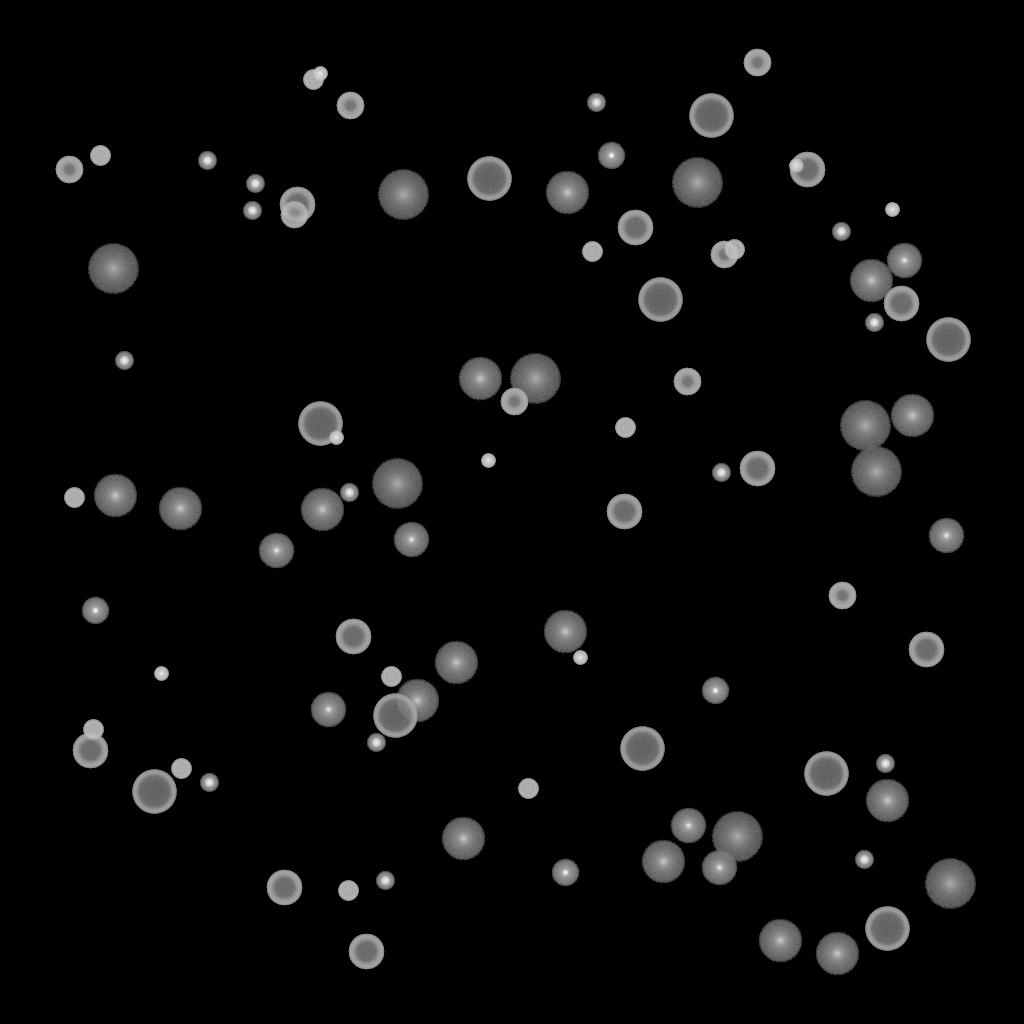depth:-10: (81, 597, 109, 625), (551, 859, 579, 887), (597, 142, 625, 170), (701, 677, 729, 705)
depth:-20: (876, 755, 894, 773), (340, 484, 358, 502), (115, 352, 133, 370), (855, 851, 873, 869), (712, 464, 730, 482), (200, 774, 218, 792), (243, 202, 261, 220), (587, 94, 605, 112), (246, 175, 264, 193), (865, 314, 883, 332), (832, 223, 850, 241), (367, 734, 385, 752), (198, 152, 216, 170), (376, 872, 394, 890)
depth:-30: (789, 159, 803, 173), (313, 67, 327, 81), (573, 651, 587, 665), (885, 203, 899, 217), (329, 431, 343, 445), (481, 454, 495, 468), (154, 667, 168, 681)
depth:-40: (381, 667, 401, 687), (83, 720, 103, 740), (338, 881, 358, 901), (615, 418, 635, 438), (64, 488, 84, 508), (724, 240, 744, 260), (518, 779, 538, 799), (171, 759, 191, 779), (582, 242, 602, 262), (90, 146, 110, 166), (303, 70, 323, 90)
depth:-50: (55, 156, 83, 184), (743, 49, 771, 77), (336, 92, 364, 120), (710, 241, 738, 269), (828, 582, 856, 610), (673, 368, 701, 396), (280, 201, 308, 229), (500, 388, 528, 416)
depth:-60: (908, 632, 944, 668), (883, 286, 919, 322), (335, 619, 371, 655), (789, 152, 825, 188), (266, 870, 302, 906), (279, 187, 315, 223), (739, 451, 775, 487), (606, 494, 642, 530), (617, 210, 653, 246), (72, 733, 108, 769), (348, 934, 384, 970)
depth:-70: (373, 694, 417, 738), (638, 278, 682, 322), (804, 752, 848, 796), (689, 94, 733, 138), (298, 402, 342, 446), (926, 318, 970, 362), (620, 727, 664, 771), (132, 770, 176, 814), (865, 907, 909, 951), (467, 157, 511, 201)
depth:0: (670, 808, 706, 844), (928, 518, 964, 554), (701, 850, 737, 886), (310, 692, 346, 728), (886, 243, 922, 279), (258, 533, 294, 569), (393, 522, 429, 558)
depth:10: (300, 488, 344, 532), (641, 840, 685, 884), (395, 679, 439, 723), (758, 919, 802, 963), (93, 474, 137, 518), (158, 487, 202, 531), (441, 817, 485, 861), (543, 610, 587, 654), (458, 357, 502, 401), (545, 171, 589, 215), (815, 932, 859, 976), (865, 779, 909, 823), (890, 394, 934, 438), (434, 641, 478, 685), (849, 259, 893, 303)
depth:20: (711, 812, 763, 862), (509, 354, 561, 404), (371, 459, 423, 509), (671, 158, 723, 208), (839, 401, 891, 451), (850, 447, 902, 497), (87, 244, 139, 294), (924, 859, 976, 909), (377, 170, 429, 220)
